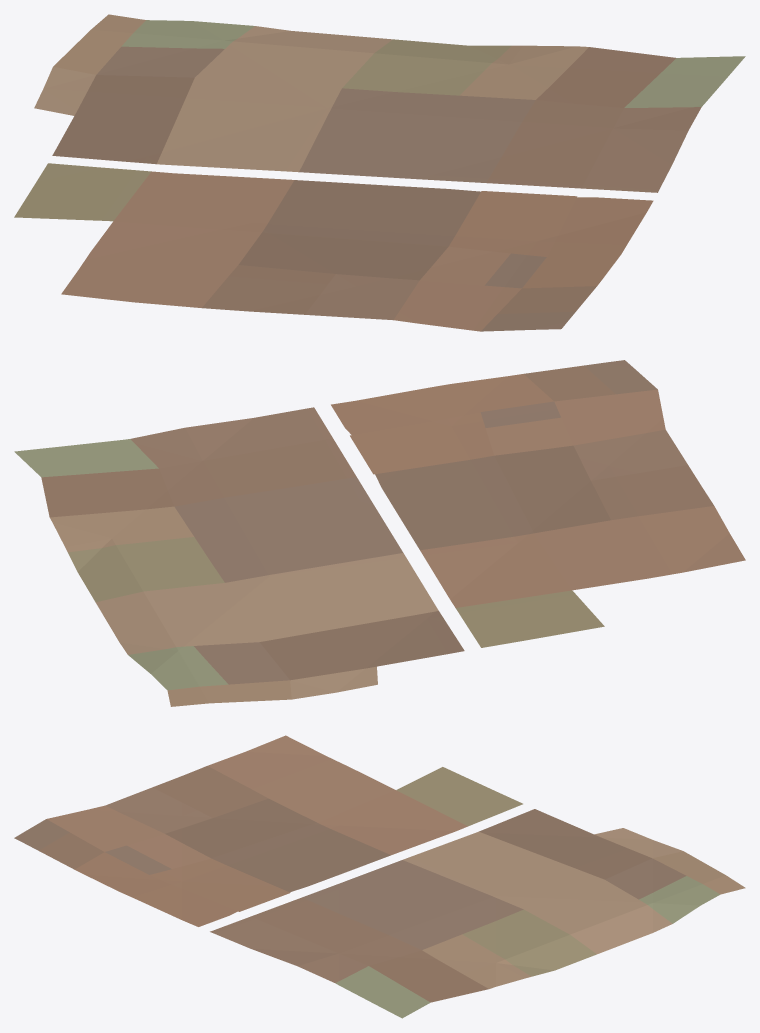
File: farm_-28_-22_soil.glb
3 views of the same model, one above another, from view 1: azimuth 30°, elevation 25°; view 2: azimuth 150°, elevation 25°; view 3: azimuth 270°, elevation 25° (orthographic). The views are drawn at different scales.
Visible parts, largest first — view 1: geometry_0; view 2: geometry_0; view 3: geometry_0.
Part boxes in pixels (x1,y1,x2,y2): geometry_0: [14, 14, 745, 331]; geometry_0: [14, 360, 745, 706]; geometry_0: [14, 735, 745, 1018].
Size of the model in its own units: 337 by 21.41 by 373.
